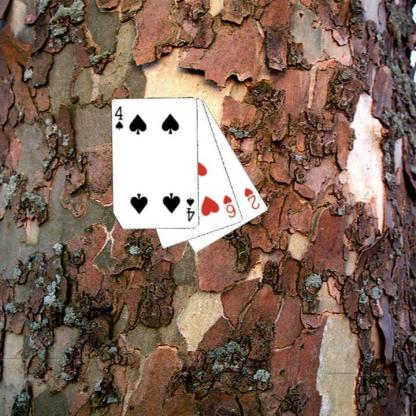2H: (242, 185, 261, 211)
4S: (184, 195, 196, 223), (112, 104, 124, 131)
6H: (221, 192, 238, 220)
